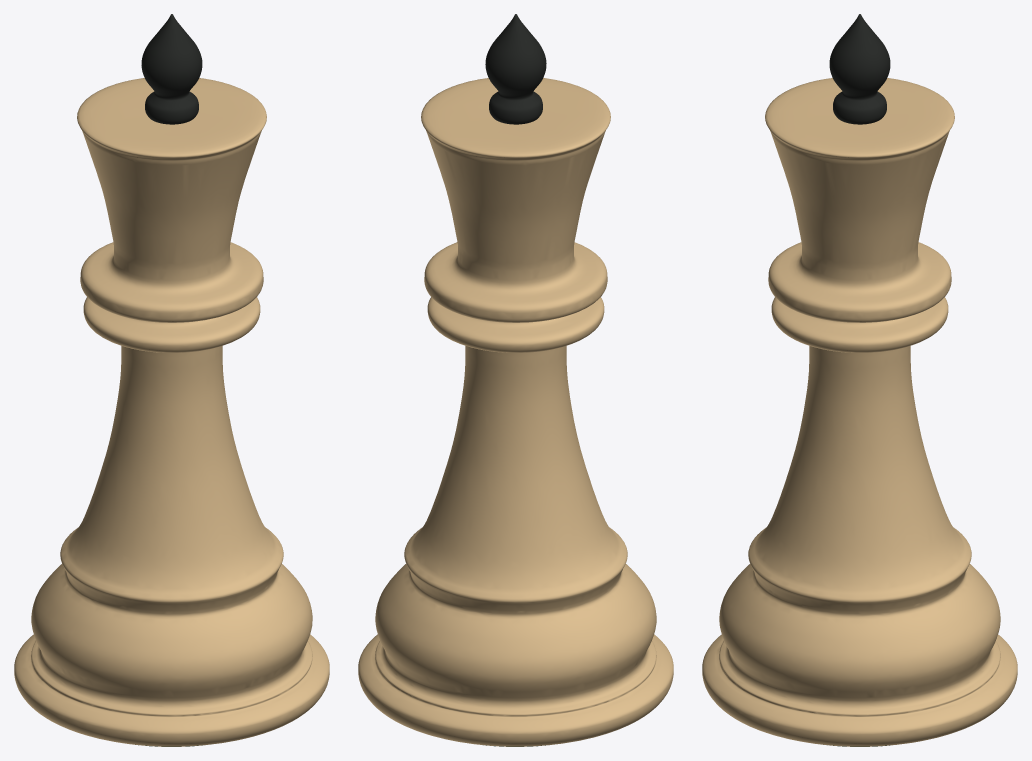
Rendered from king.glb.
3 views of the same model, side by side, from view 1: azimuth 30°, elevation 25°; view 2: azimuth 150°, elevation 25°; view 3: azimuth 270°, elevation 25° (orthographic).
Parts seen in each view (by area): view 1: Piece_King; view 2: Piece_King; view 3: Piece_King.
Part boxes in pixels (<box>): Piece_King: <box>14,14,329,746</box>; Piece_King: <box>358,14,673,746</box>; Piece_King: <box>702,14,1017,746</box>.
Bounding box in the file's own units: 0.0414 × 0.098 × 0.0414.
